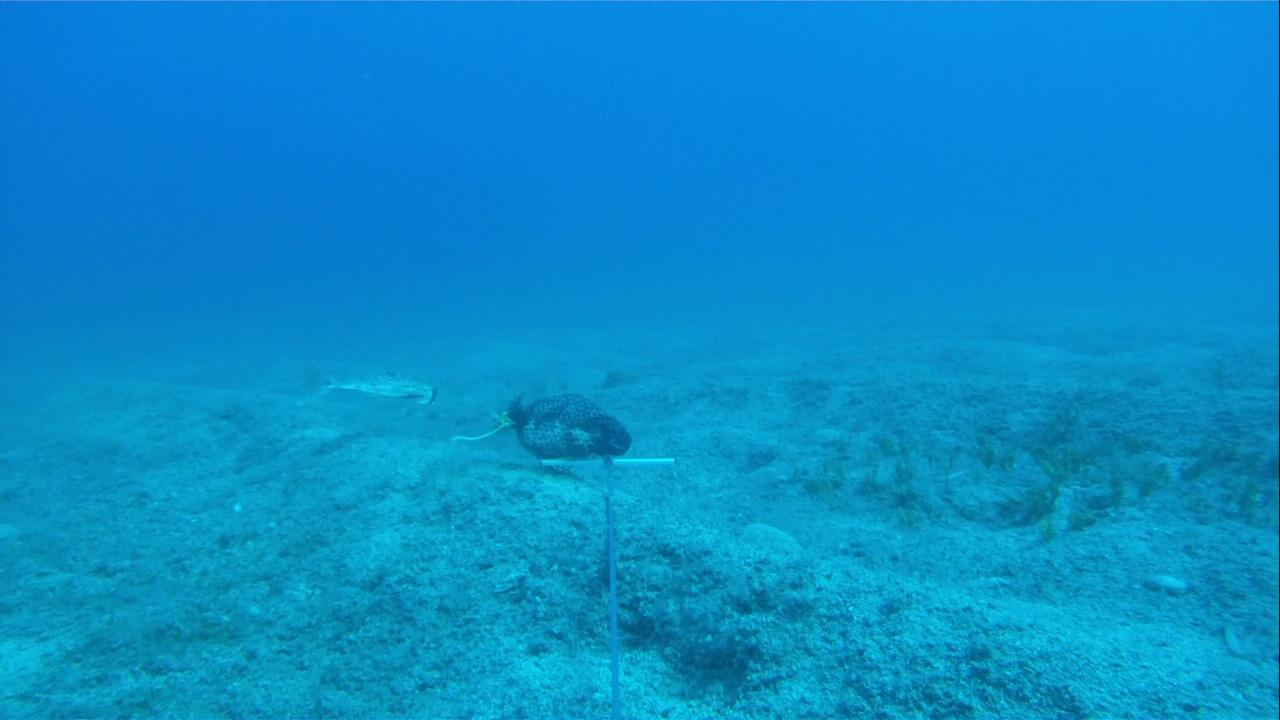dactylopterus: (278, 353, 445, 428)
